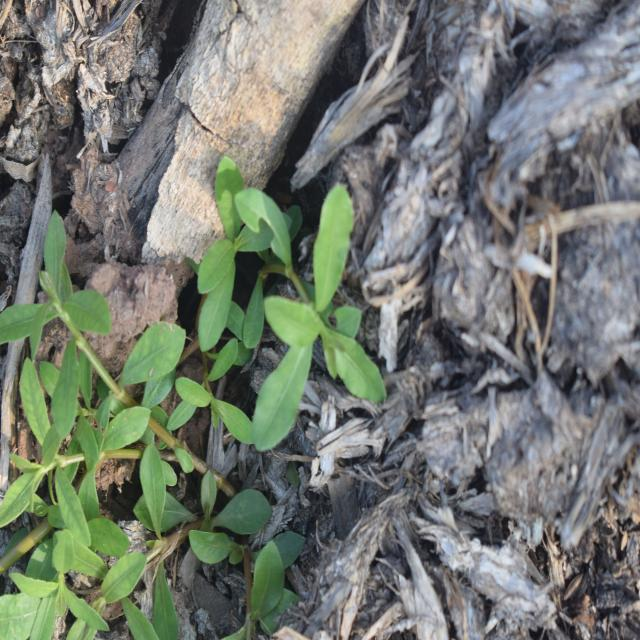Alligatorweed: (200, 170, 416, 416), (0, 256, 194, 517)
